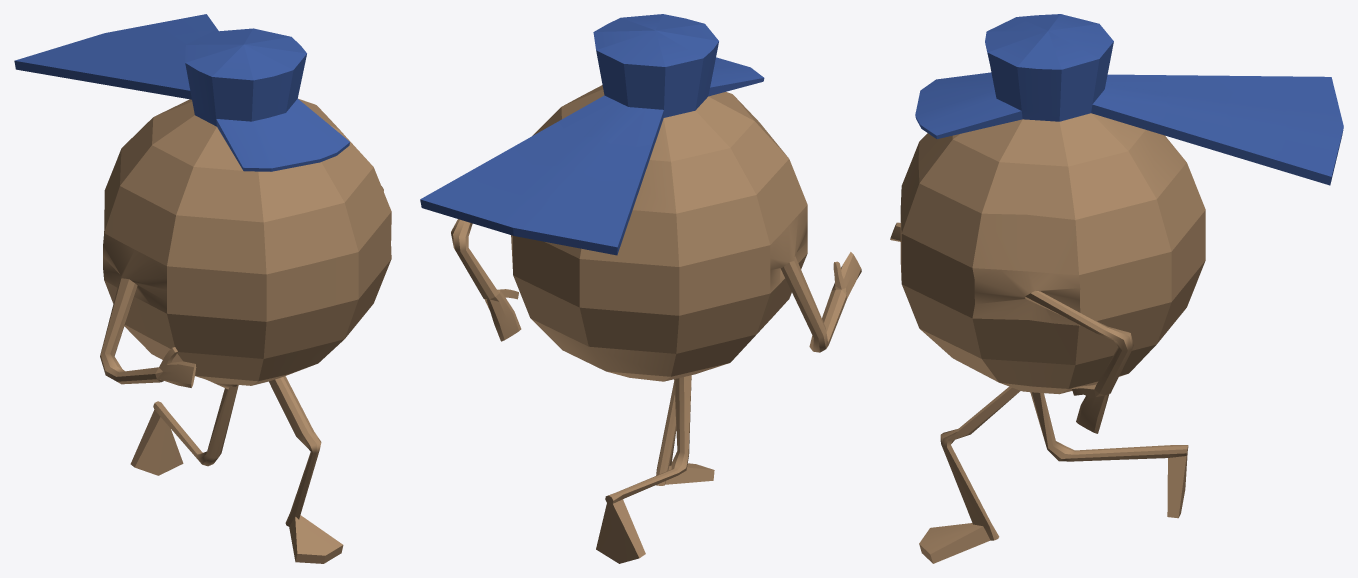
The model's file is char.fbx.
3 renders of one model, left to right at view 1: azimuth 30°, elevation 25°; view 2: azimuth 150°, elevation 25°; view 3: azimuth 270°, elevation 25°, orthographic. The views are drawn at different scales.
Visible parts, largest first — view 1: base, cap; view 2: base, cap; view 3: base, cap.
Boxes of the visible parts, box(x1,y1,x2,y2) form: base: box(100, 28, 391, 563); cap: box(14, 14, 218, 99); base: box(451, 14, 861, 563); cap: box(420, 95, 663, 255); base: box(890, 14, 1205, 563); cap: box(1091, 74, 1343, 185).
Size of the model in its own units: 122 by 176 by 142.
